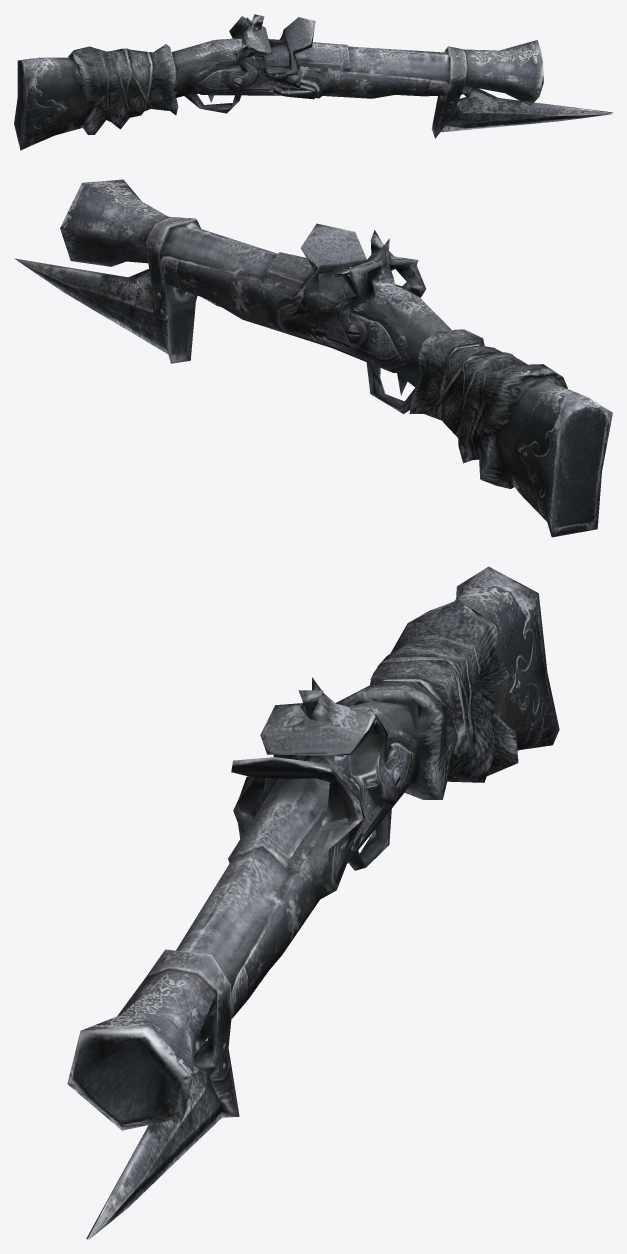
Rendered from infantry_hp_musket.glb.
3 renders of one model, top to bottom at view 1: azimuth 30°, elevation 25°; view 2: azimuth 150°, elevation 25°; view 3: azimuth 270°, elevation 25°, orthographic. The views are drawn at different scales.
Parts seen in each view (by area): view 1: tripo_node_c46cbc89-8bab-4528-8c7f-af93fa9028f2; view 2: tripo_node_c46cbc89-8bab-4528-8c7f-af93fa9028f2; view 3: tripo_node_c46cbc89-8bab-4528-8c7f-af93fa9028f2.
Boxes of the visible parts, left/top/right/bottom form: tripo_node_c46cbc89-8bab-4528-8c7f-af93fa9028f2: left=14, top=14, right=612, bottom=150; tripo_node_c46cbc89-8bab-4528-8c7f-af93fa9028f2: left=14, top=179, right=612, bottom=537; tripo_node_c46cbc89-8bab-4528-8c7f-af93fa9028f2: left=67, top=566, right=559, bottom=1239.
Size of the model in its own units: 0.9263 by 0.2526 by 0.3974.
Materials: 1 (1 with a texture image).
